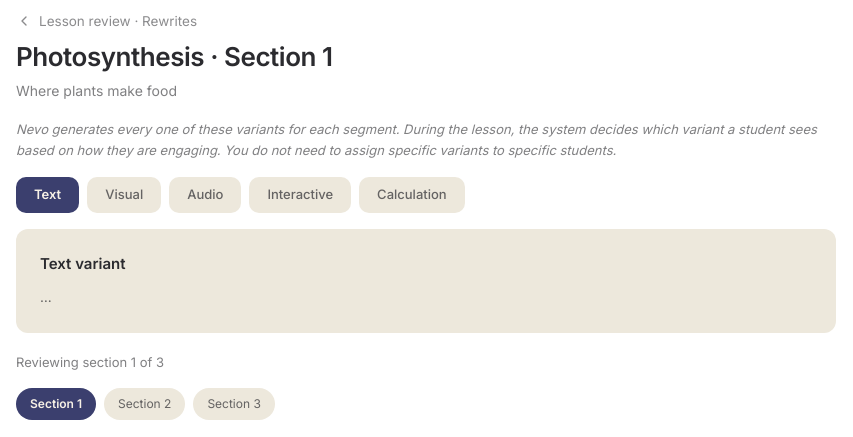
Test case: the interactive version, as an activity › still says so when there is no interactive version
Click the tab "Interactive" at point(300, 195), box x1=249 y1=177 x2=351 y2=213
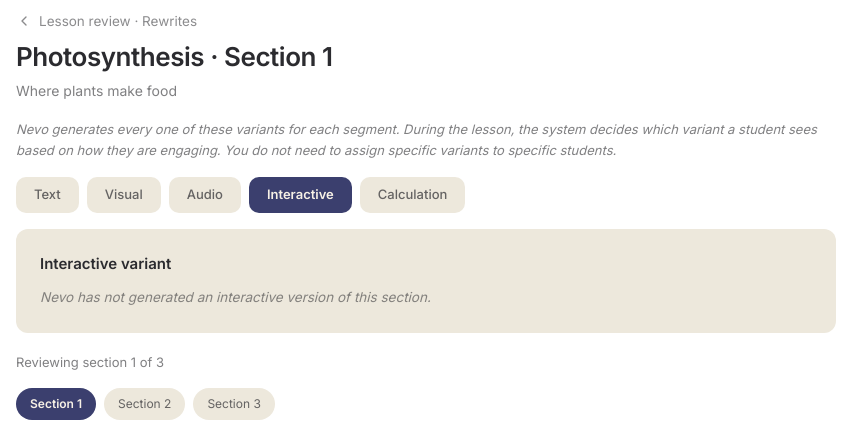
Now the text "Nevo has not generated an interactive version of this section." is shown, box x1=40 y1=289 x2=431 y2=305
